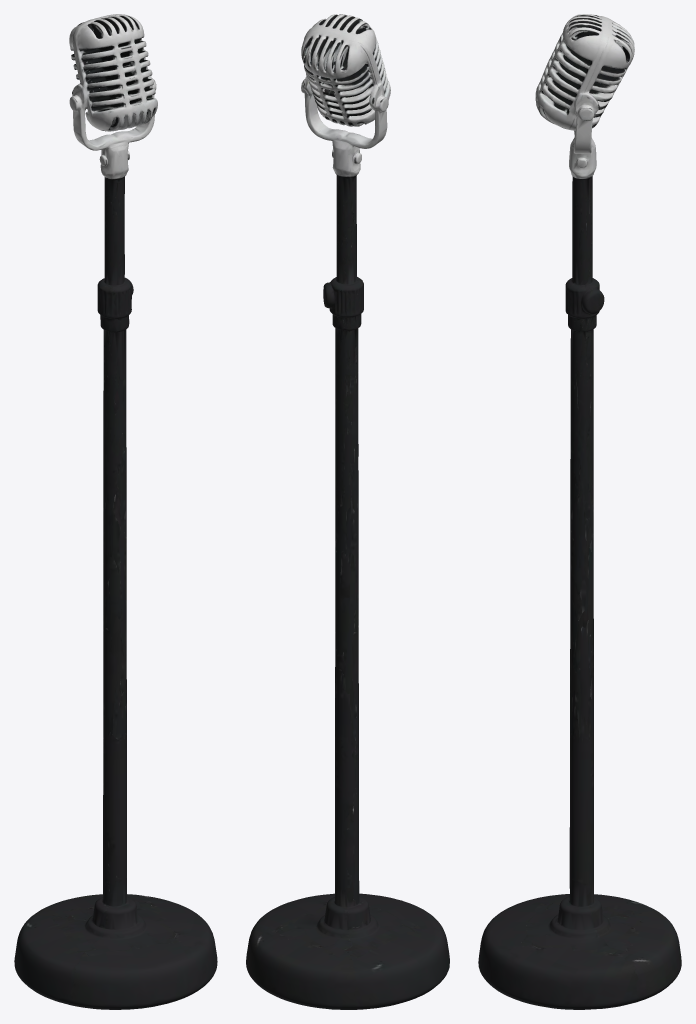
3 renders of one model, left to right at view 1: azimuth 30°, elevation 25°; view 2: azimuth 150°, elevation 25°; view 3: azimuth 270°, elevation 25°, orthographic.
Visible parts, largest first — view 1: Mesh_0; view 2: Mesh_0; view 3: Mesh_0.
Boxes of the visible parts, <box> form: Mesh_0: <box>14,14,217,1009</box>; Mesh_0: <box>246,14,449,1009</box>; Mesh_0: <box>478,14,681,1009</box>.
Bounding box in the file's own units: 0.3687 × 1.9 × 0.3685.
1 material, 1 textured.
